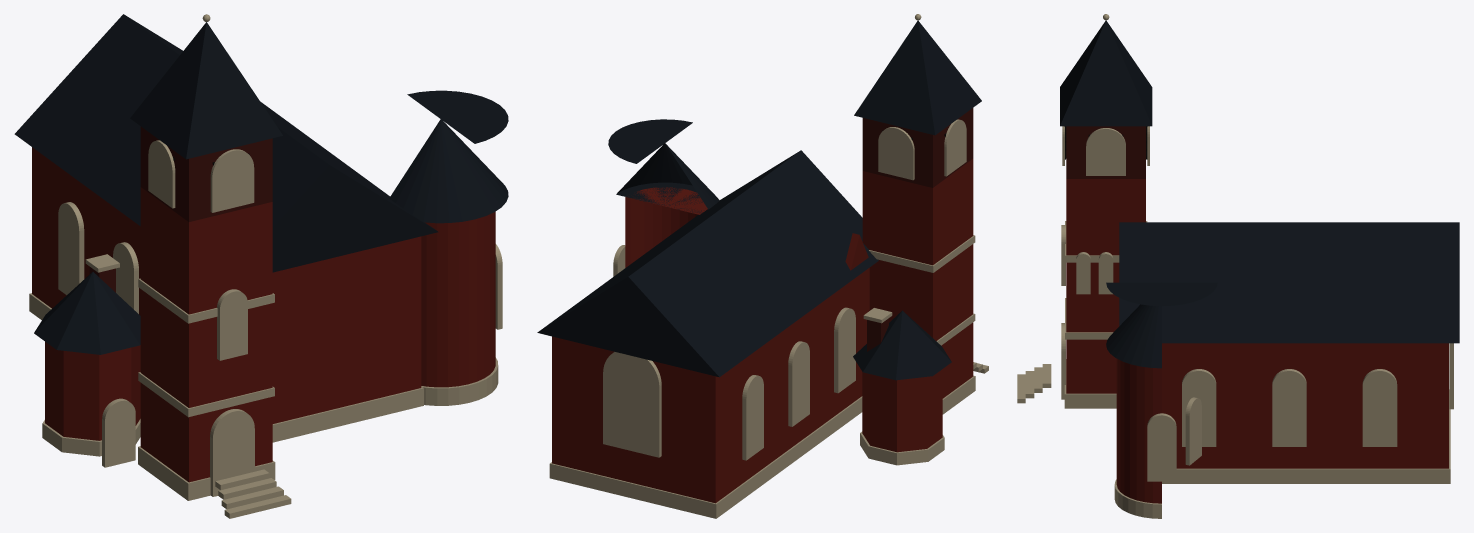
The model's file is BrickChurch.obj.
3 views of the same model, side by side, from view 1: azimuth 30°, elevation 25°; view 2: azimuth 150°, elevation 25°; view 3: azimuth 270°, elevation 25° (orthographic). The views are drawn at different scales.
Parts seen in each view (by area): view 1: BrickChurch; view 2: BrickChurch; view 3: BrickChurch.
Boxes of the visible parts, <box> form: BrickChurch: <box>14,14,508,518</box>; BrickChurch: <box>537,14,988,518</box>; BrickChurch: <box>1017,14,1459,518</box>.
Size of the model in its own units: 15.11 by 15.94 by 16.64.
